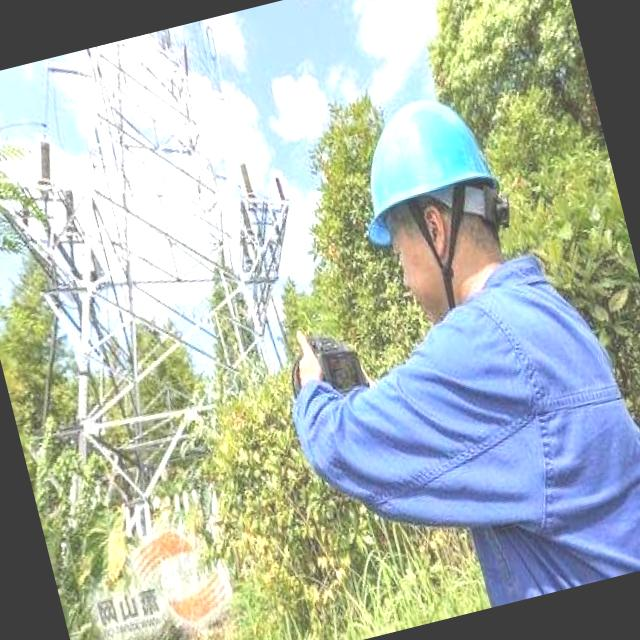helmet: (338, 81, 516, 258)
